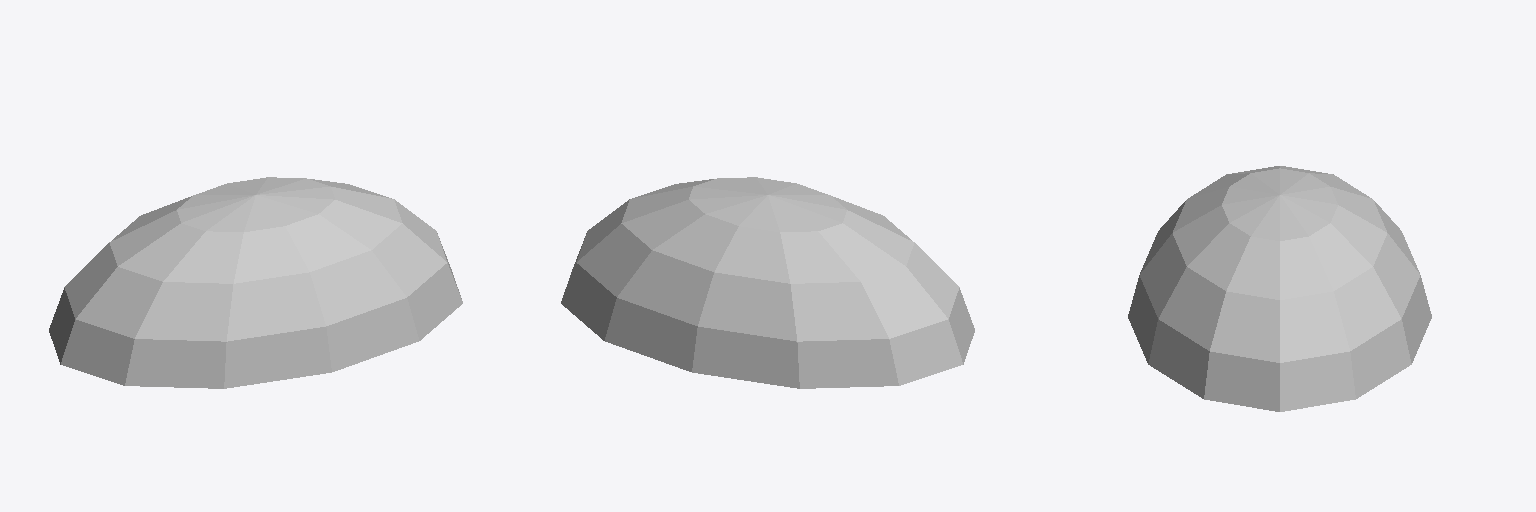
Rendered from leftHand.obj.
3 renders of one model, left to right at view 1: azimuth 30°, elevation 25°; view 2: azimuth 150°, elevation 25°; view 3: azimuth 270°, elevation 25°, orthographic.
Parts seen in each view (by area): view 1: dummy_hips3_dummy_belly_dummy_torso_dummy_rshoulder_dummy_r.002; view 2: dummy_hips3_dummy_belly_dummy_torso_dummy_rshoulder_dummy_r.002; view 3: dummy_hips3_dummy_belly_dummy_torso_dummy_rshoulder_dummy_r.002.
Part boxes in pixels (left/top/right/bottom): dummy_hips3_dummy_belly_dummy_torso_dummy_rshoulder_dummy_r.002: left=49, top=177, right=462, bottom=388; dummy_hips3_dummy_belly_dummy_torso_dummy_rshoulder_dummy_r.002: left=561, top=177, right=974, bottom=388; dummy_hips3_dummy_belly_dummy_torso_dummy_rshoulder_dummy_r.002: left=1128, top=166, right=1431, bottom=411.
Size of the model in its own units: 14.72 by 4.39 by 9.93.